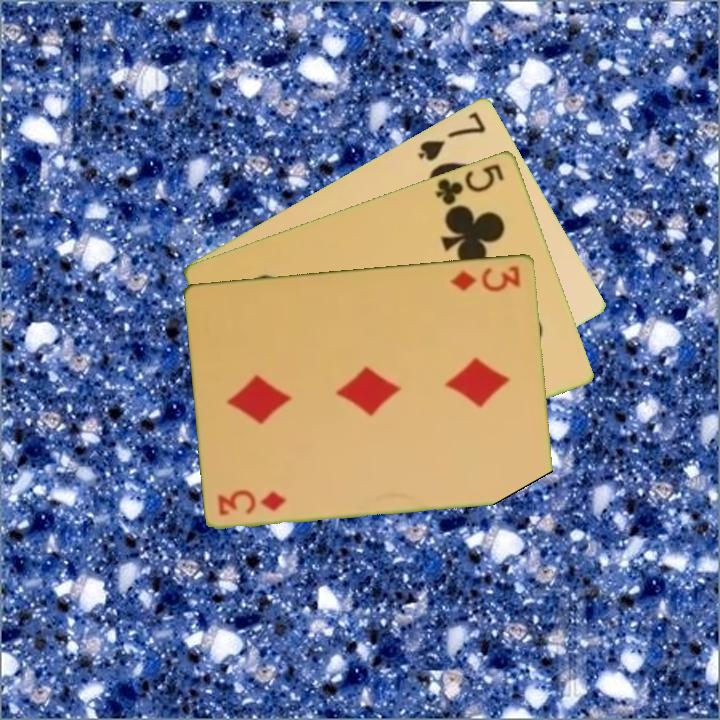3d: (446, 262, 523, 294), (215, 487, 290, 518)
5c: (431, 159, 507, 211)
7s: (414, 107, 489, 164)
